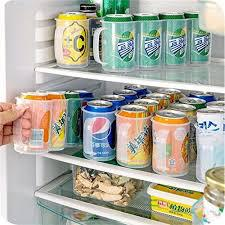beer: (51, 2, 214, 65)
